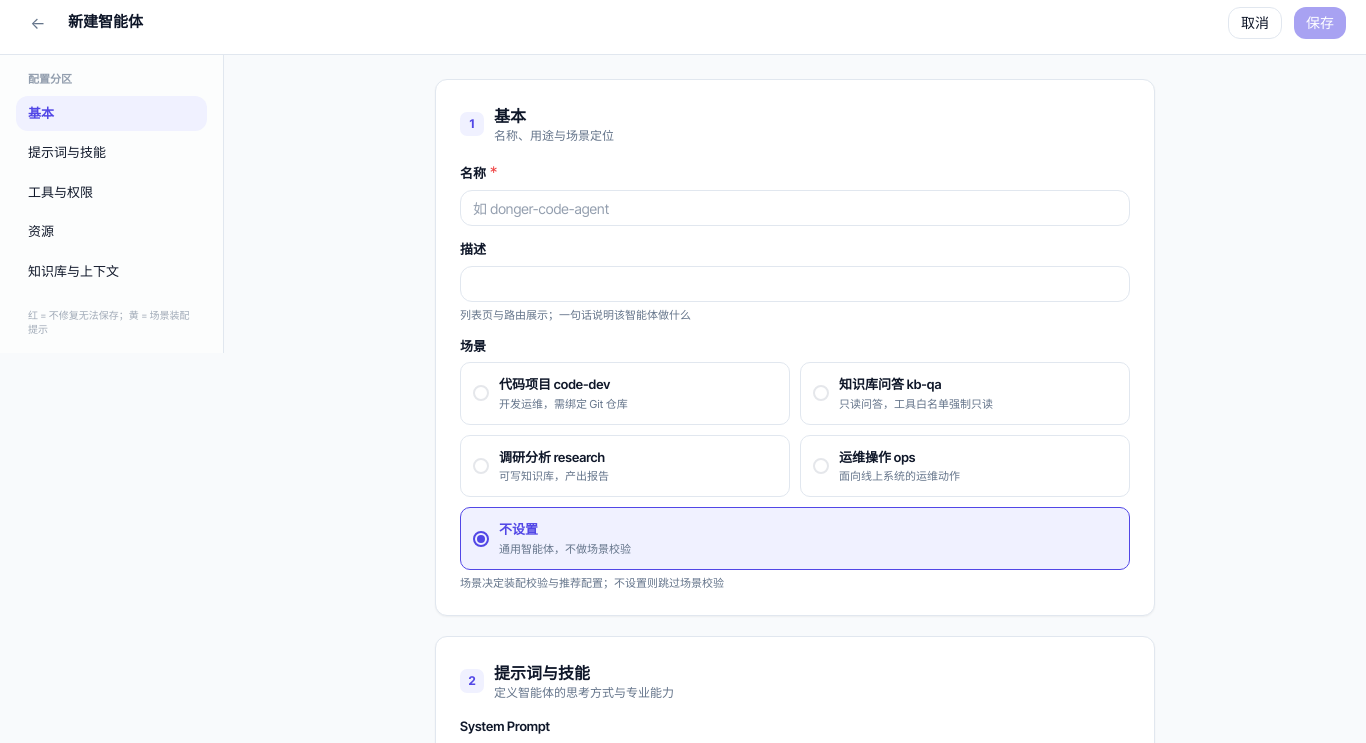
Test: AgentEditorPage 独立知识库（专有库单选项） › 待建默认名与本人既有库重名时自动加序号
Type "stock-lab" into the field with placeholder "如 donger-code-agent". click: (795, 208)
box: x1=460 y1=190 x2=1130 y2=226
(page scrolled)
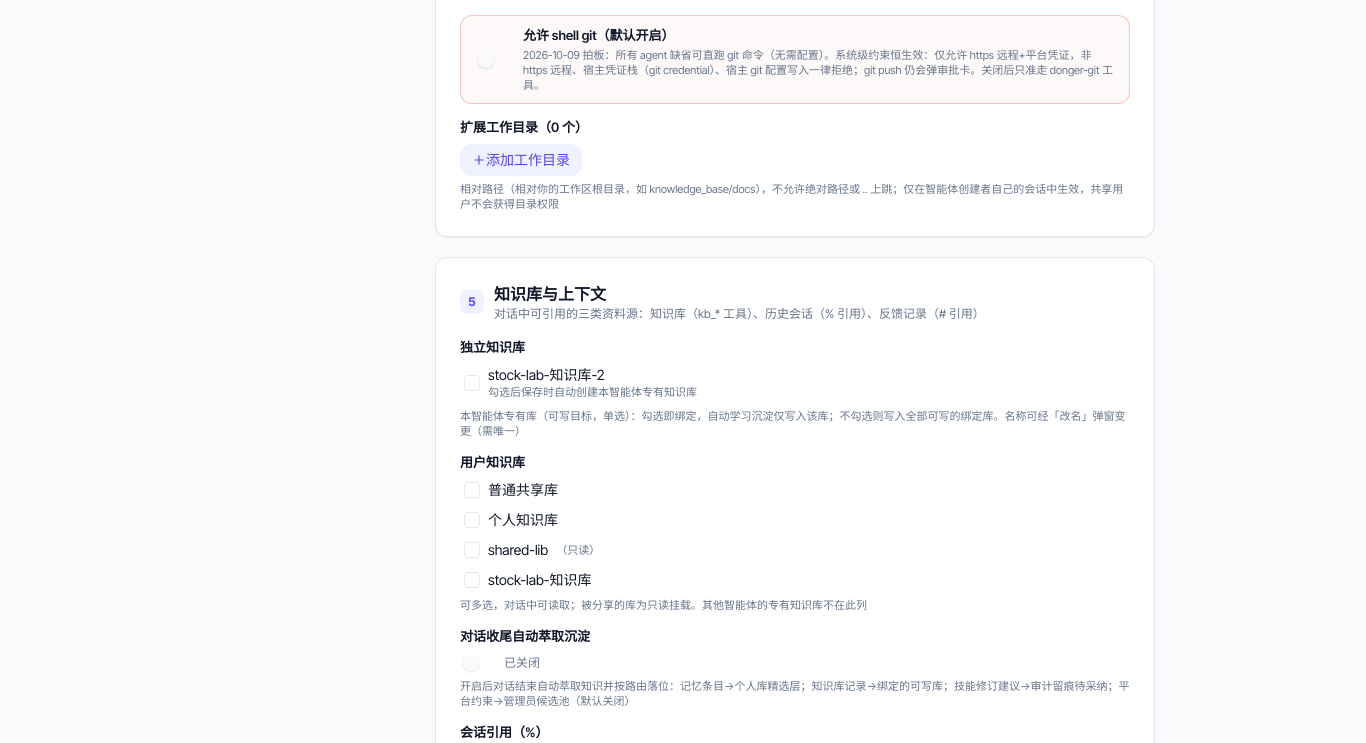
expect the text "stock-lab-知识库-2" is shown: met, box x1=488 y1=366 x2=605 y2=383
